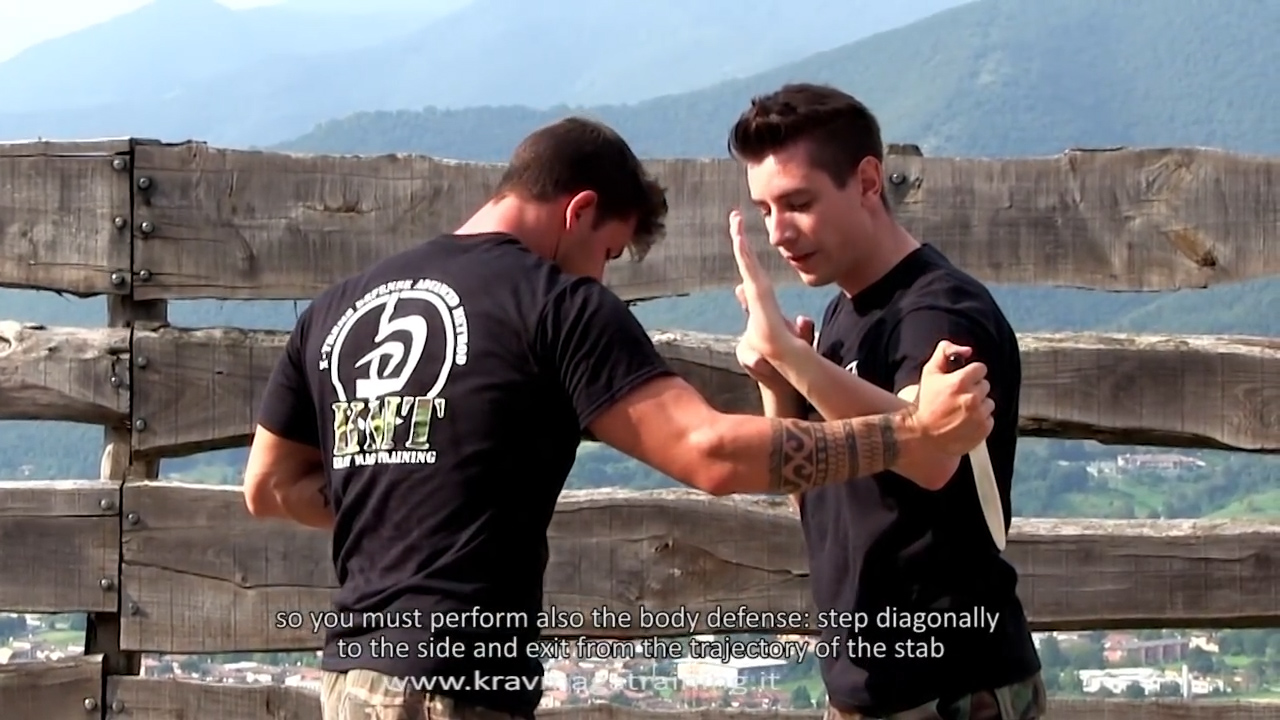knife: (919, 340, 1014, 552)
